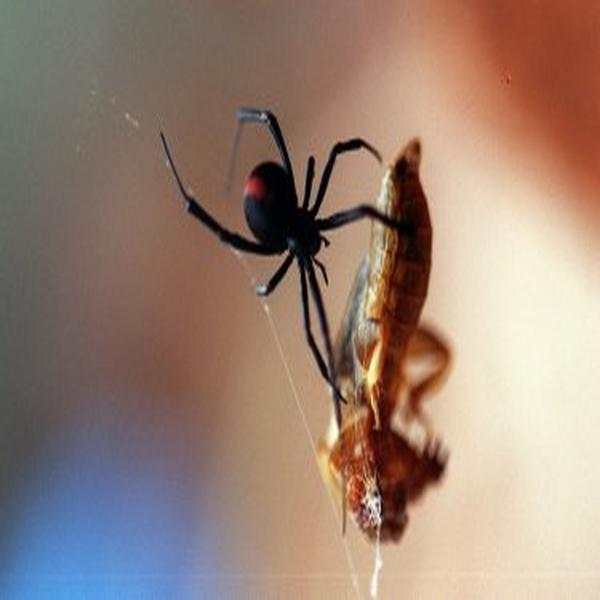Redback_Spider: (159, 107, 418, 435)
